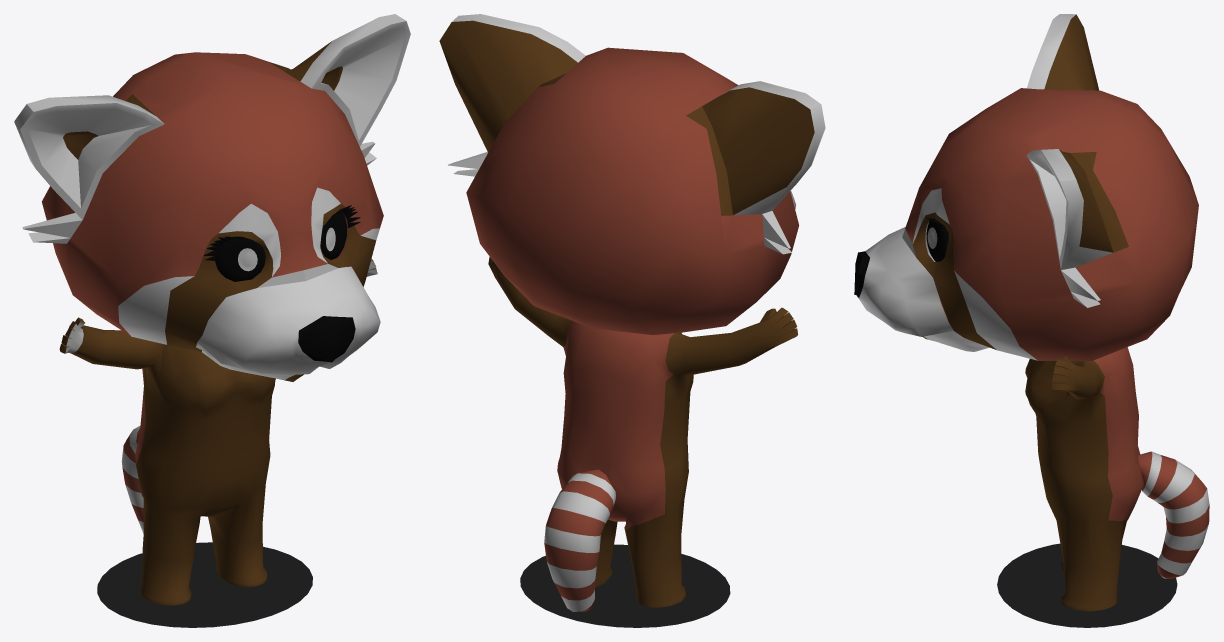
Rendered from rirul.glb.
3 views of the same model, side by side, from view 1: azimuth 30°, elevation 25°; view 2: azimuth 150°, elevation 25°; view 3: azimuth 270°, elevation 25° (orthographic). The views are drawn at different scales.
Visible parts, largest first — view 1: body.009, body.010; view 2: body.009, body.010; view 3: body.009, body.010.
Part boxes in pixels (<box>): body.009: <box>14,14,410,605</box>; body.010: <box>97,542,312,627</box>; body.009: <box>439,14,825,611</box>; body.010: <box>520,544,730,627</box>; body.009: <box>854,14,1209,611</box>; body.010: <box>997,543,1177,627</box>.
Bounding box in the file's own units: 0.7693 × 1 × 0.6582.
